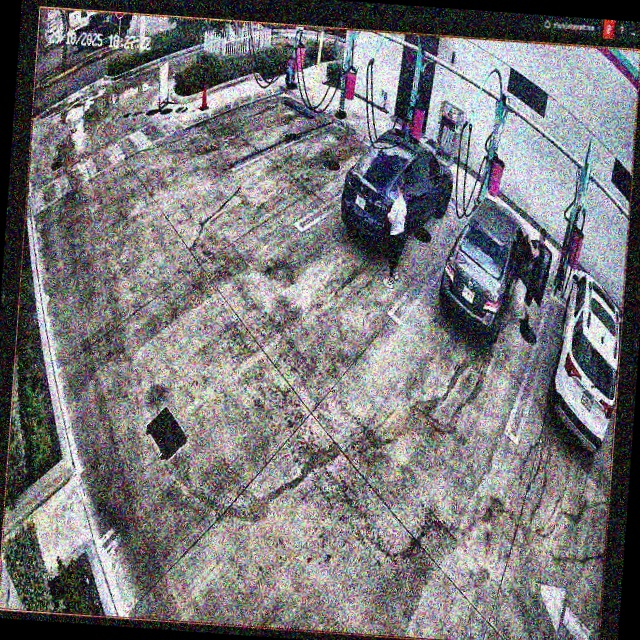Car: (441, 198, 555, 343), (339, 126, 457, 259)
